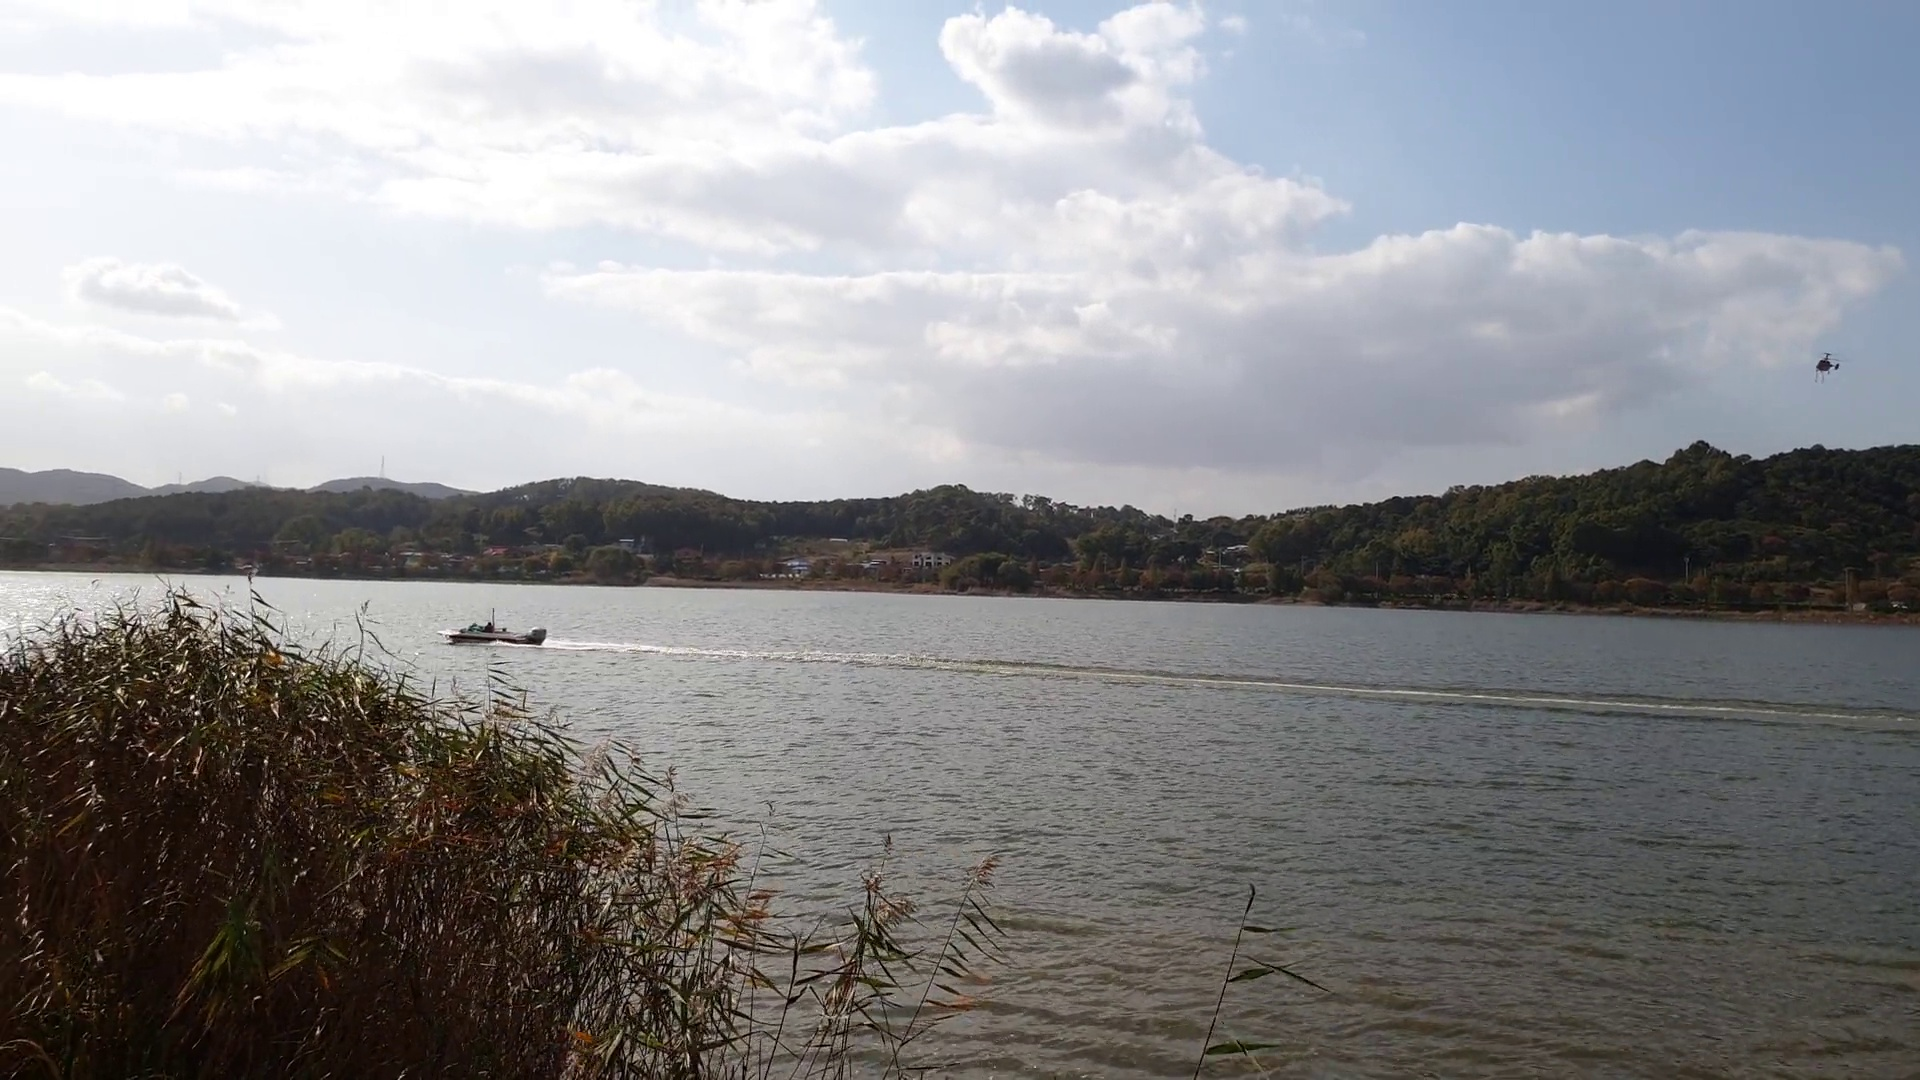heli: (1813, 349, 1842, 375)
